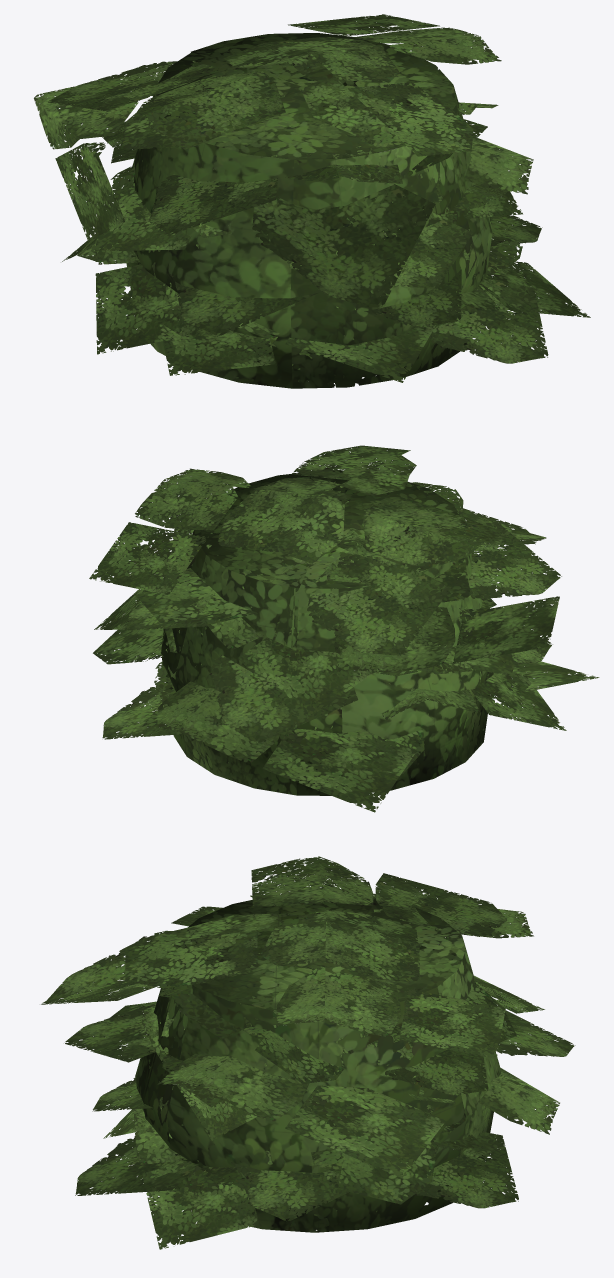
The model's file is Bush.fbx.
3 views of the same model, one above another, from view 1: azimuth 30°, elevation 25°; view 2: azimuth 150°, elevation 25°; view 3: azimuth 270°, elevation 25° (orthographic). The views are drawn at different scales.
Visible parts, largest first — view 1: Mesh; view 2: Mesh; view 3: Mesh.
Boxes of the visible parts, left/top/right/bottom form: Mesh: left=34, top=14, right=590, bottom=388; Mesh: left=89, top=445, right=599, bottom=812; Mesh: left=41, top=856, right=575, bottom=1249.
Bounding box in the file's own units: 5.9 × 2.92 × 6.15.
